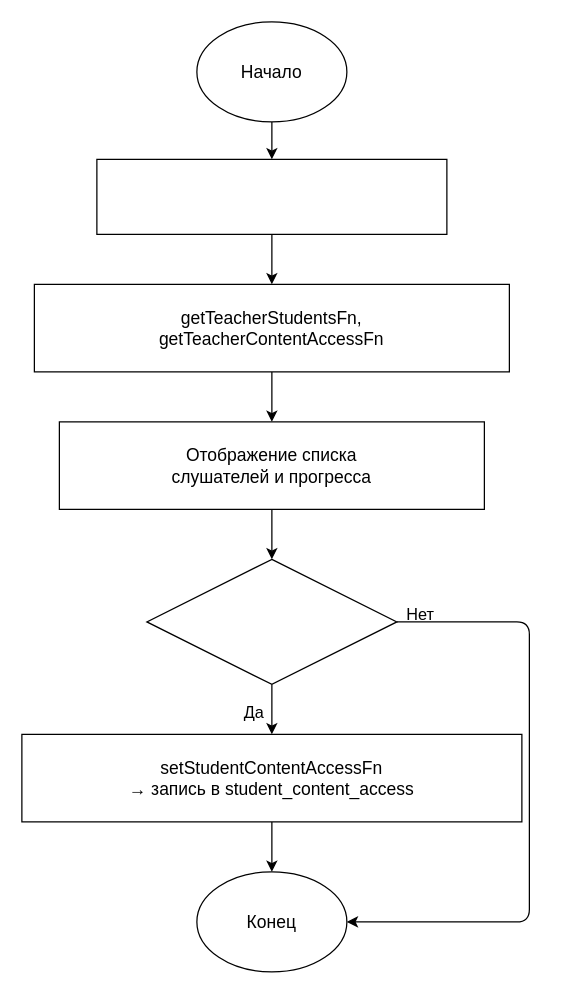
This 561x994 diagram has some shape labels left out. The shapes that lost their labels are listed below. From the top down, each one's box as (x1, y1, x2, y2) in pixels, then its label:
(96, 158, 447, 234): Загрузка teacher.tsx
(146, 558, 397, 684): Изменение доступа к контенту?
